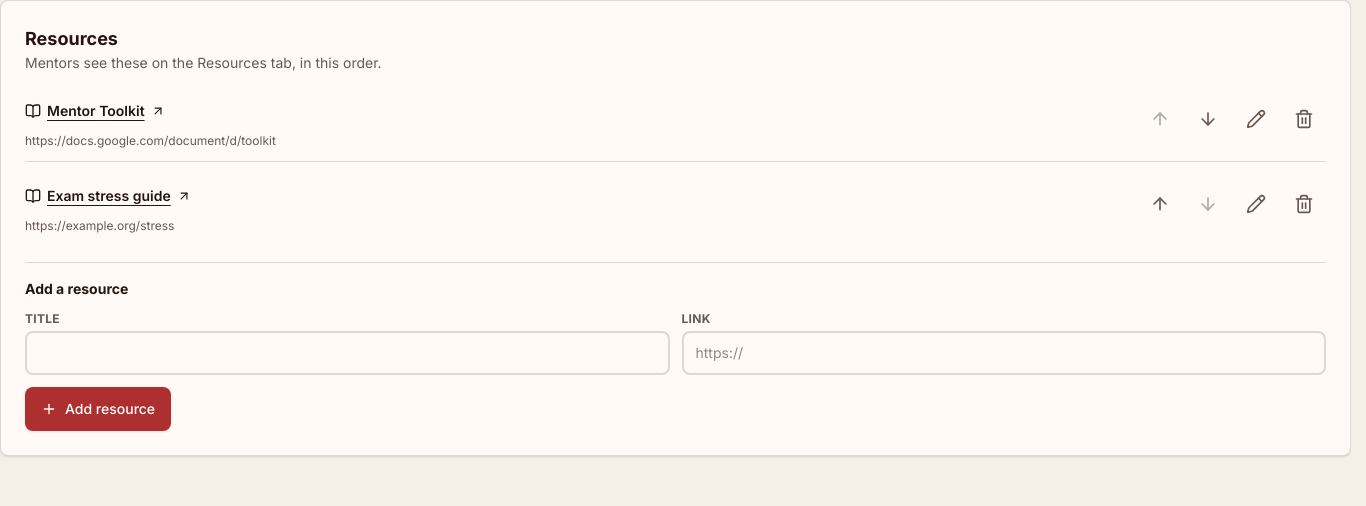
ResourcesManager › shows a non-field error under the form
Click the button "Add resource".
click(98, 409)  # box [25, 387, 171, 431]
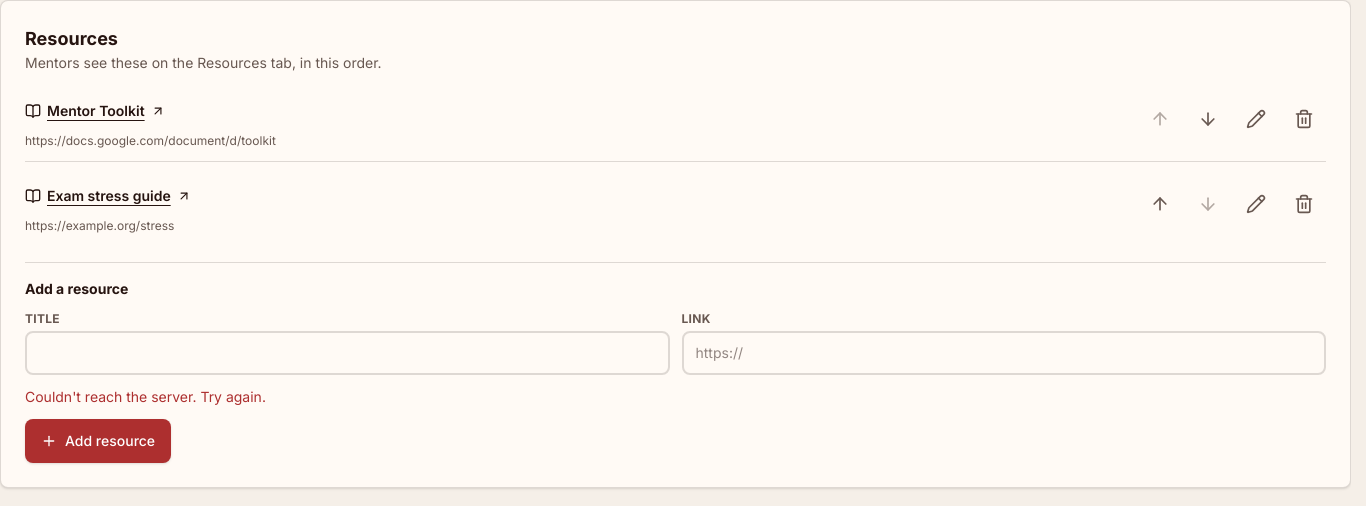
Expected: the text "Couldn't reach the server. Try again." is shown, [25, 388, 266, 405]
